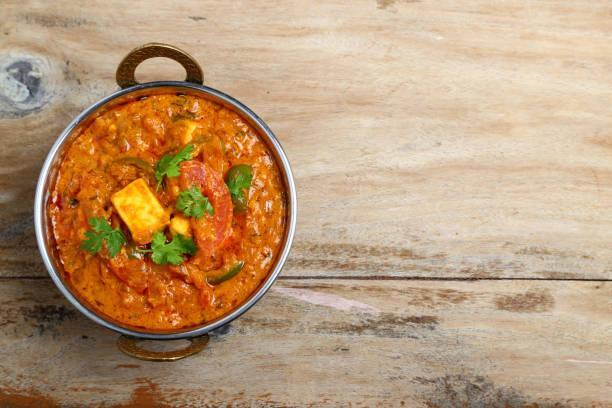paneer: (84, 137, 249, 273)
